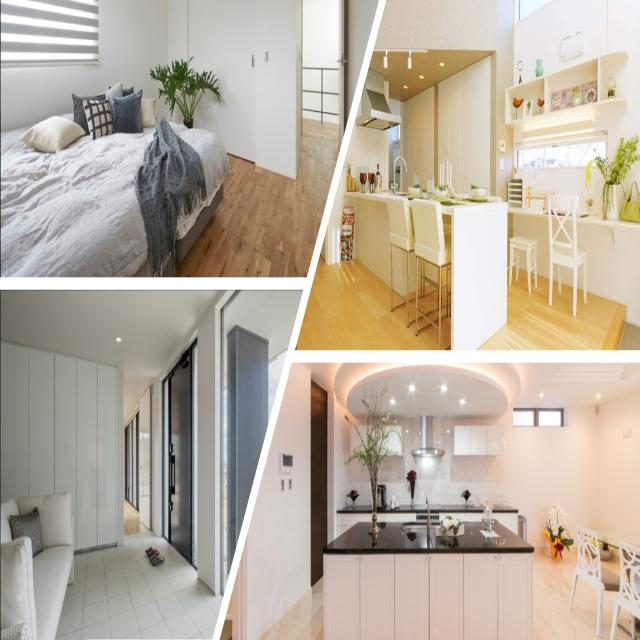white bed: (0, 112, 239, 293)
